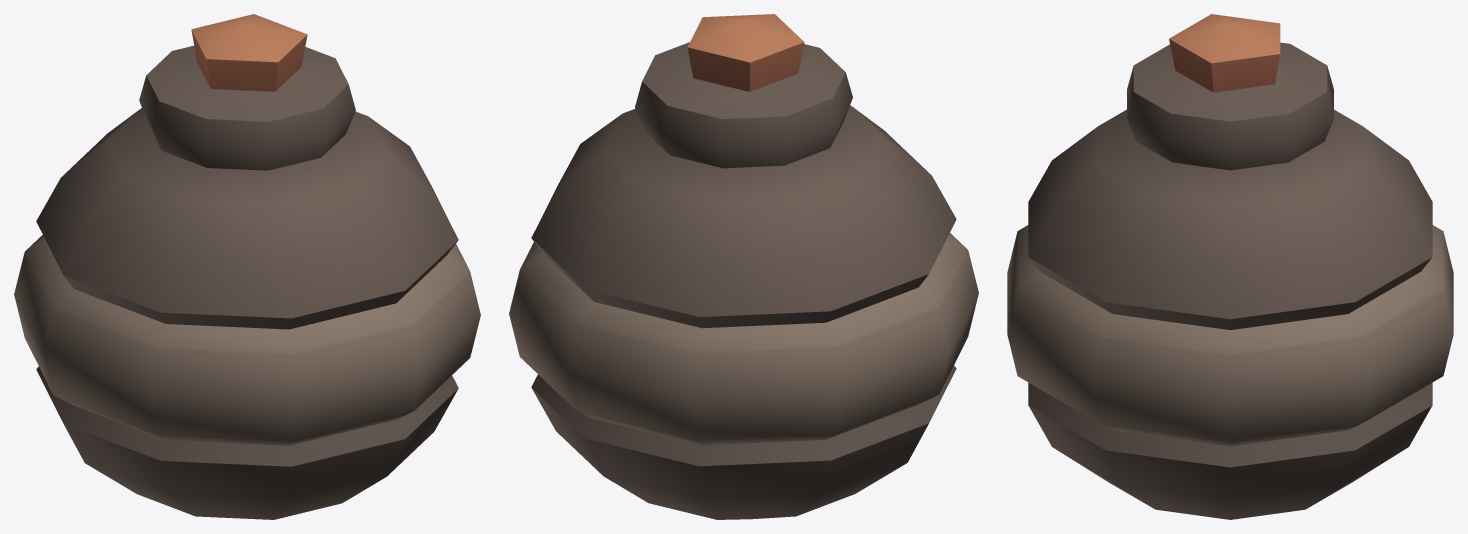
The picture shows the model from 3 angles, left to right: view 1: azimuth 30°, elevation 25°; view 2: azimuth 150°, elevation 25°; view 3: azimuth 270°, elevation 25°; orthographic projection.
Visible parts, largest first — view 1: smokebomb; view 2: smokebomb; view 3: smokebomb.
Boxes of the visible parts, x1,y1,x2,y2 form: smokebomb: [14, 14, 480, 519]; smokebomb: [509, 14, 978, 519]; smokebomb: [1007, 14, 1453, 519].
Size of the model in its own units: 0.3826 by 0.4231 by 0.3639.
Materials: 1 (1 with a texture image).
